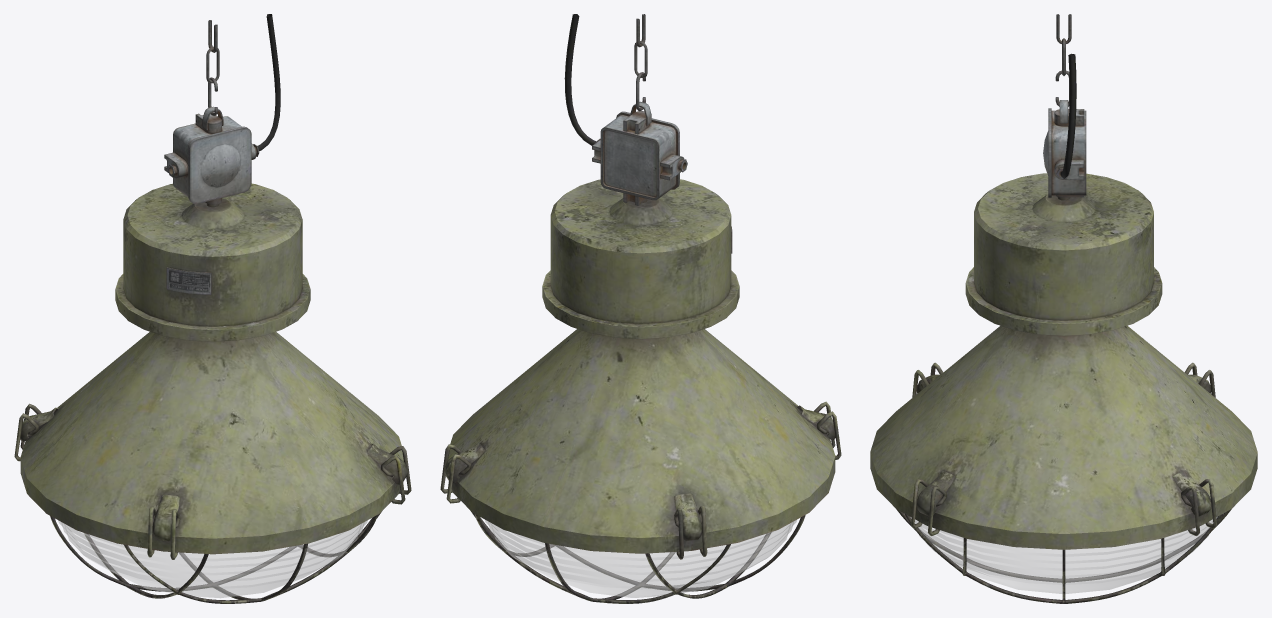
File: ceiling-fixture.glb
3 views of the same model, side by side, from view 1: azimuth 30°, elevation 25°; view 2: azimuth 150°, elevation 25°; view 3: azimuth 270°, elevation 25° (orthographic).
Parts seen in each view (by area): view 1: hanging_industrial_lamp; view 2: hanging_industrial_lamp; view 3: hanging_industrial_lamp.
Boxes of the visible parts, bbox=[...] form: hanging_industrial_lamp: bbox=[14, 14, 411, 603]; hanging_industrial_lamp: bbox=[440, 14, 841, 603]; hanging_industrial_lamp: bbox=[870, 14, 1257, 603].
Size of the model in its own units: 0.5496 by 0.888 by 0.5496.
Materials: 2 (1 with a texture image).
